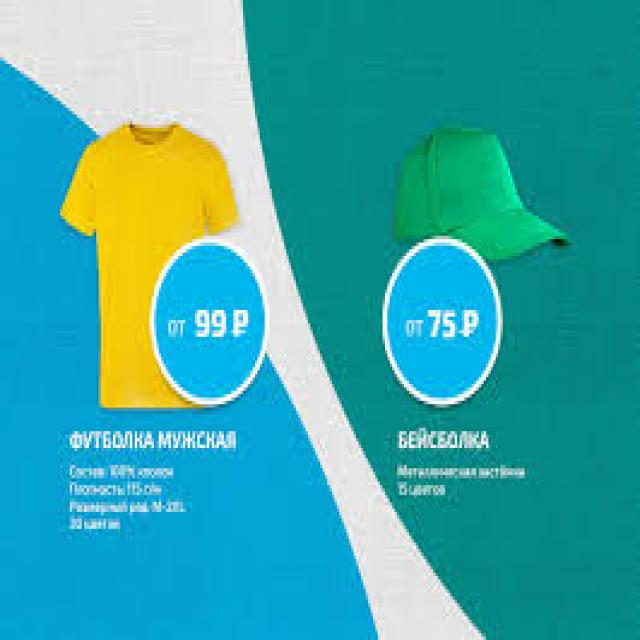Shirt: (67, 114, 247, 438)
